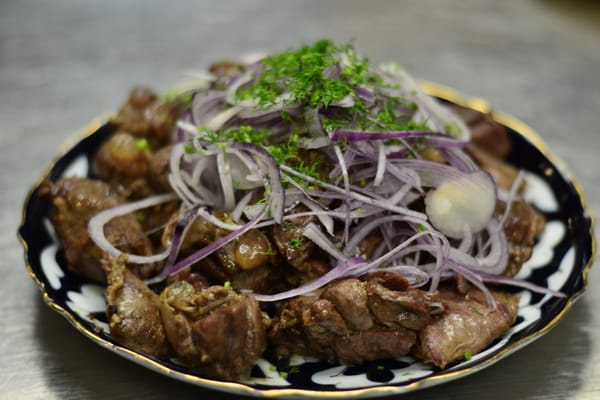steak: (425, 176, 496, 241)
sushi: (40, 63, 594, 389)
